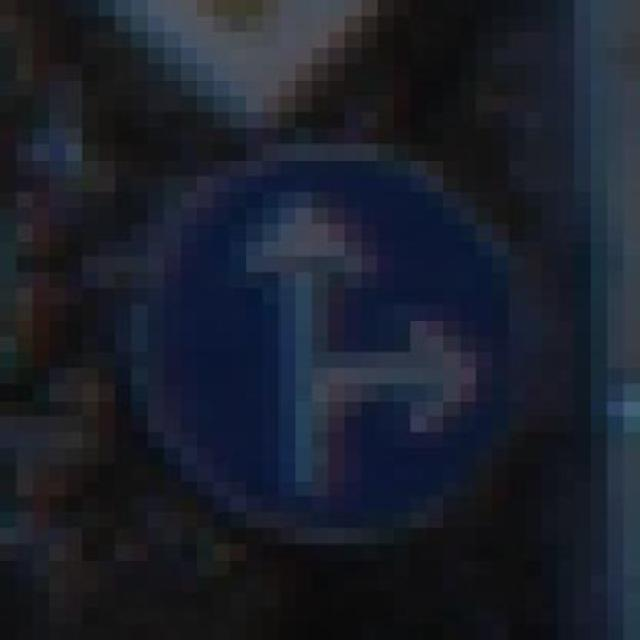Go Straight or Turn Right: (98, 144, 591, 576)
